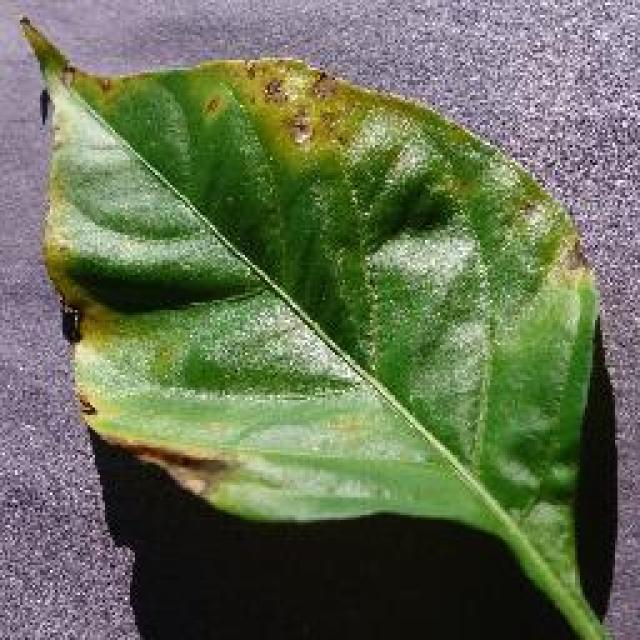Chilli_Bacterial_Spot: (15, 12, 605, 538), (237, 53, 345, 155), (283, 108, 315, 148), (258, 72, 292, 108), (197, 90, 225, 120)
